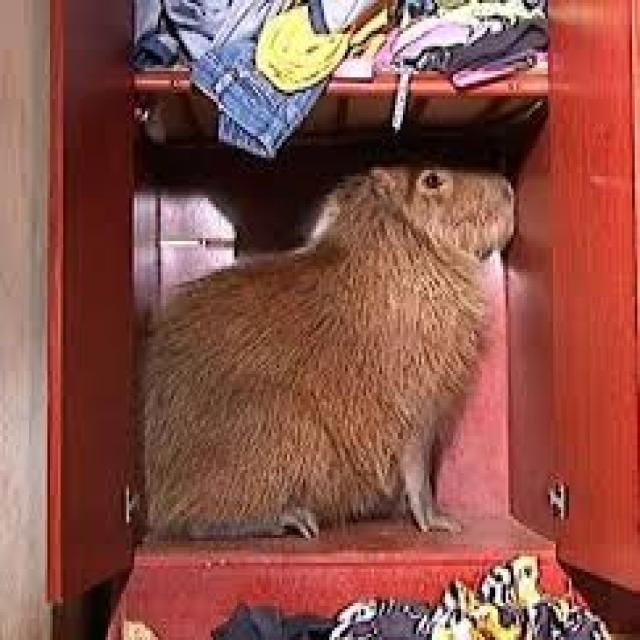capy: (134, 163, 518, 542)
